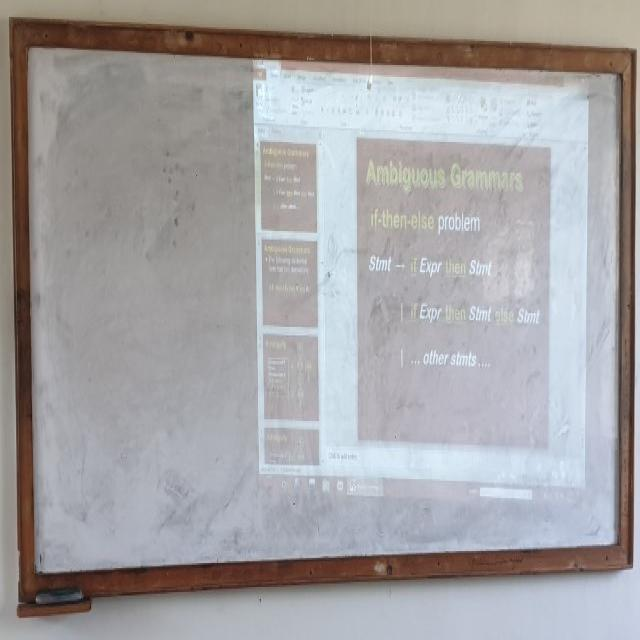Slide: (249, 38, 587, 507)
White-board: (19, 32, 630, 593)
